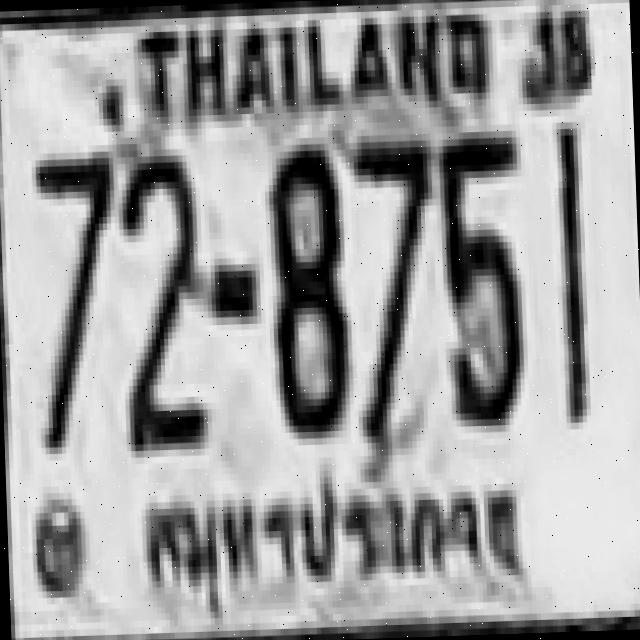1: (552, 122, 586, 423)
2: (114, 144, 206, 448)
5: (436, 124, 524, 420)
7: (30, 144, 119, 448), (348, 136, 436, 440)
8: (267, 136, 347, 432)
SamutPrakan: (133, 470, 532, 616)
